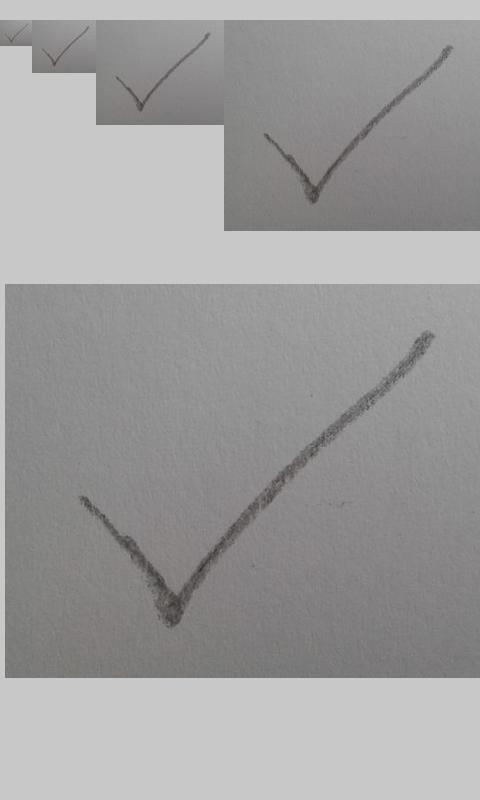check_box: (80, 333, 433, 626), (264, 45, 454, 204), (114, 33, 211, 111), (42, 27, 89, 66), (5, 23, 28, 43)
